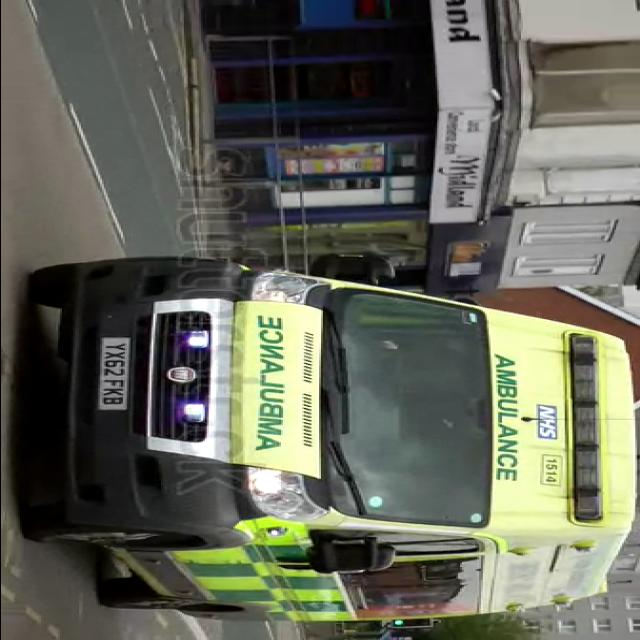ambulance: (18, 254, 632, 618)
